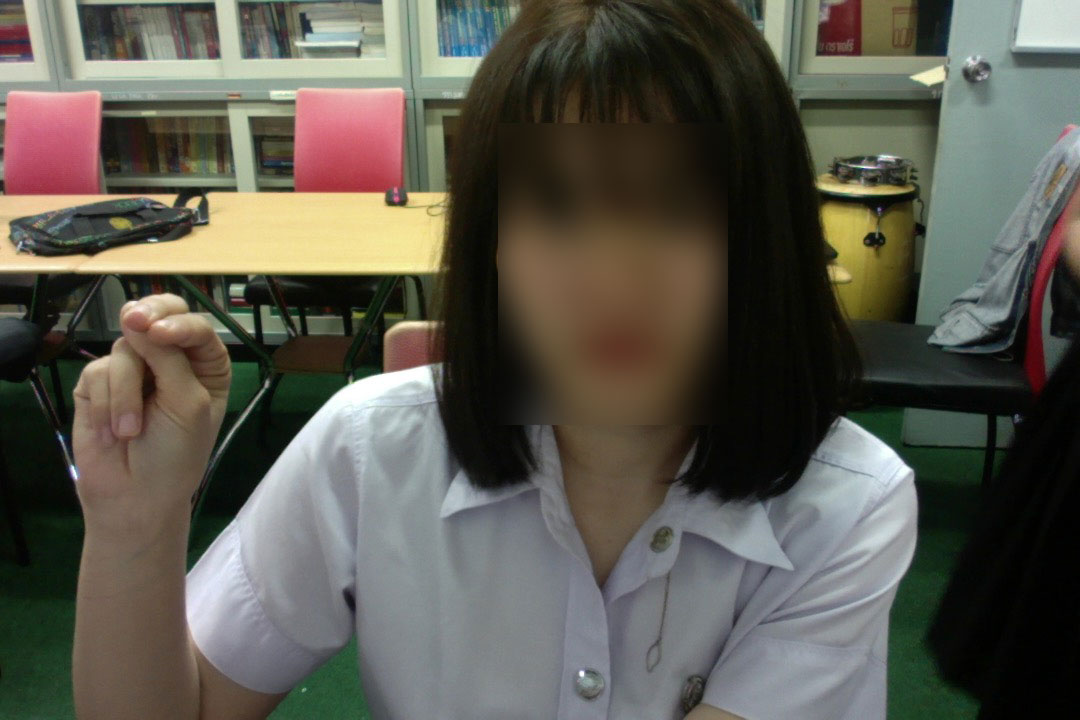nor: (58, 286, 239, 531)
